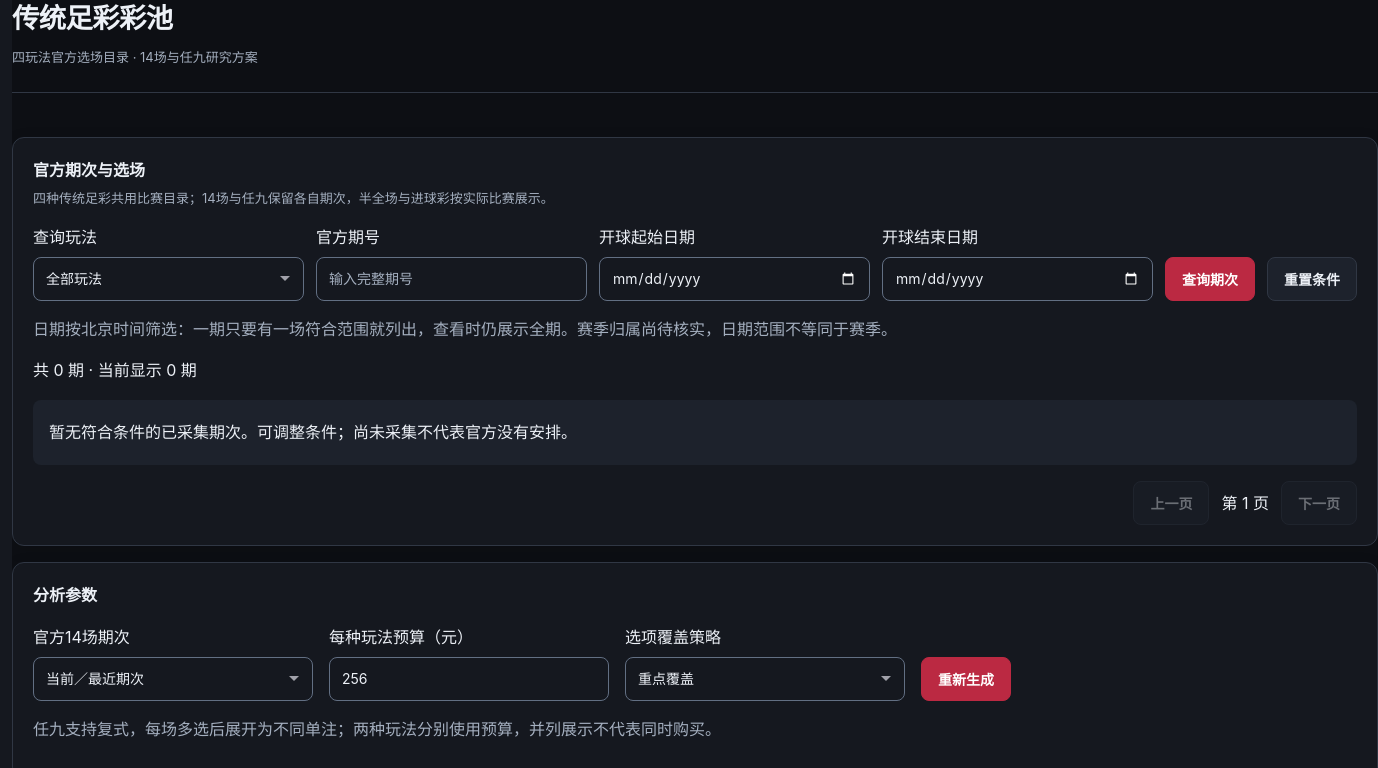
it: PoolPage corrected contracts › 改预算后刷新失败，明确保留旧参数并禁止保存为新方案
Replace the text in the number field labelled "每种玩法预算（元）" with "128": (469, 679) left=329, top=657, right=609, bottom=701
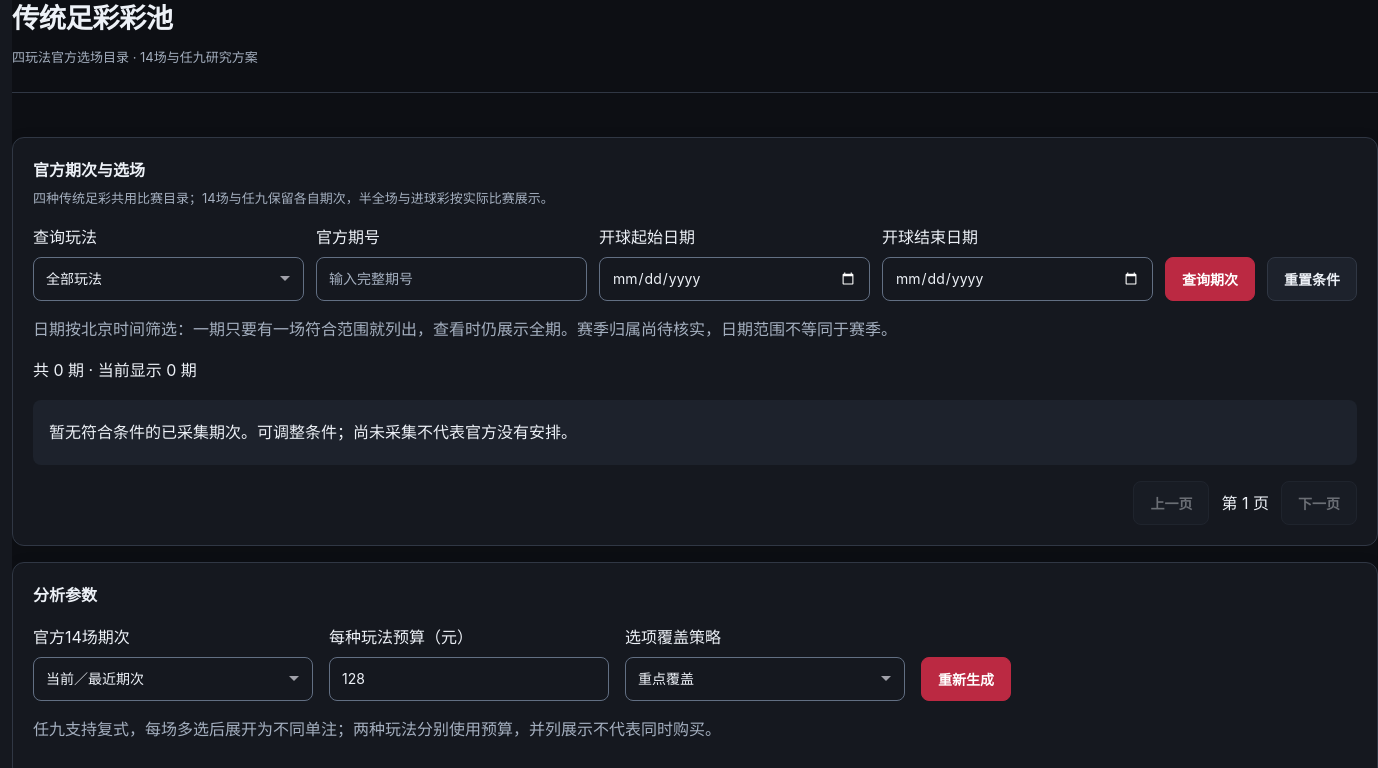
Click the button "重新生成": click(966, 679) left=921, top=657, right=1011, bottom=701
(page scrolled)
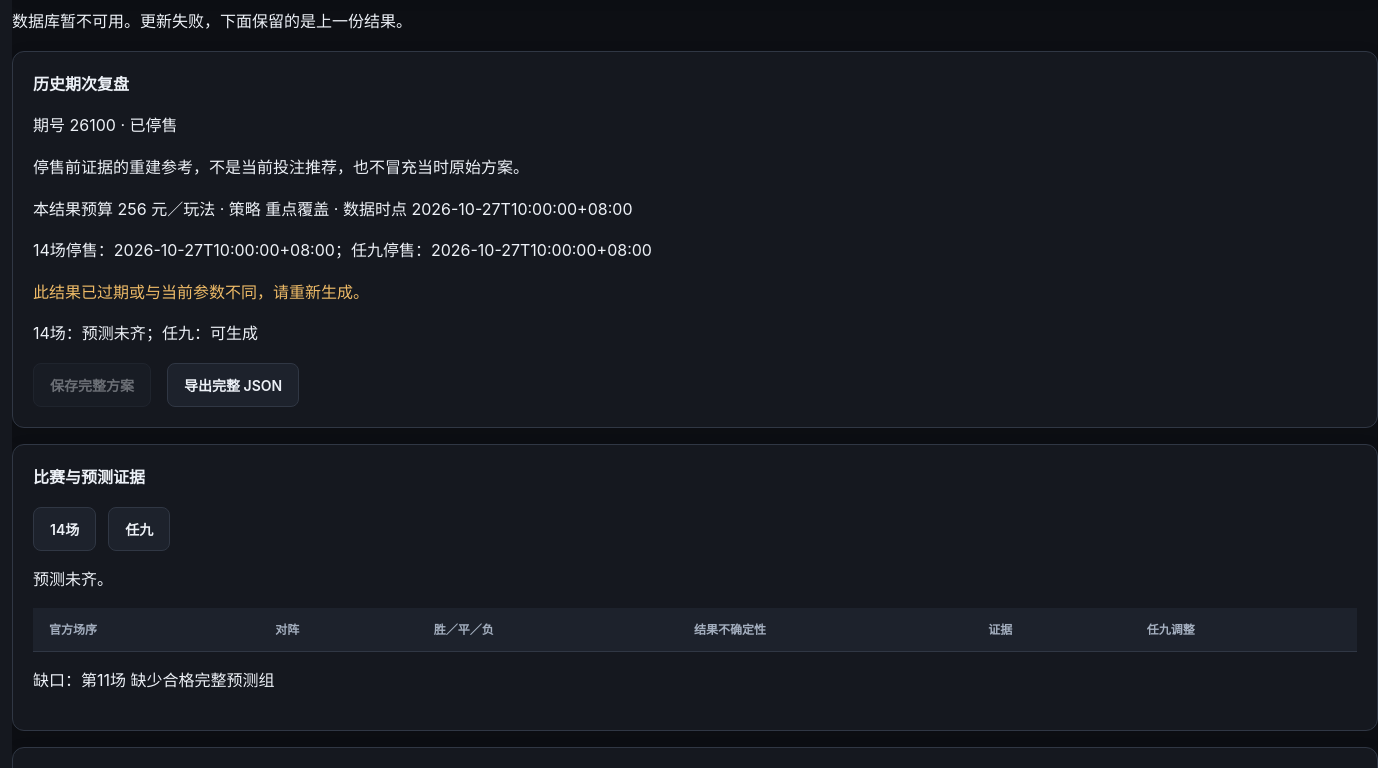
Expected: the text "本结果预算 256 元／玩法 · 策略 重点覆盖 · 数据时点 2026-10-27T10:00:00+08:00" is shown, left=33, top=198, right=632, bottom=218
Expected: the button "保存完整方案" is disabled, left=33, top=363, right=151, bottom=407
Expected: the message "数据库暂不可用。更新失败，下面保留的是上一份结果。" is shown, left=12, top=11, right=412, bottom=31
